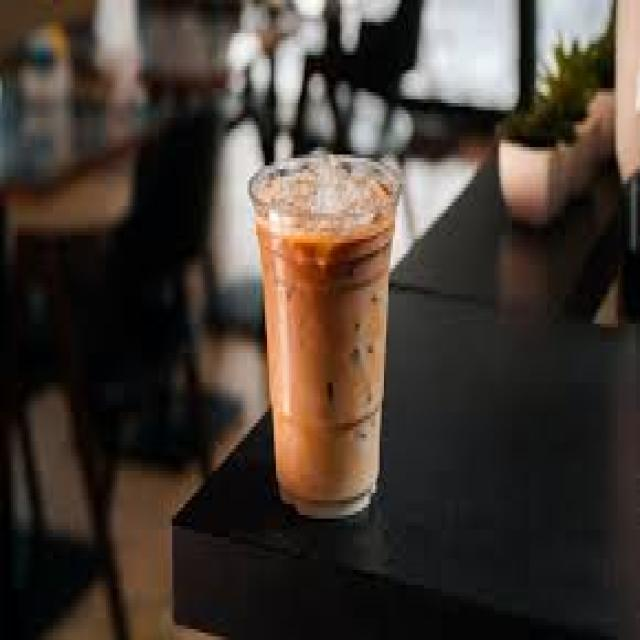bottle: (249, 154, 401, 518)
